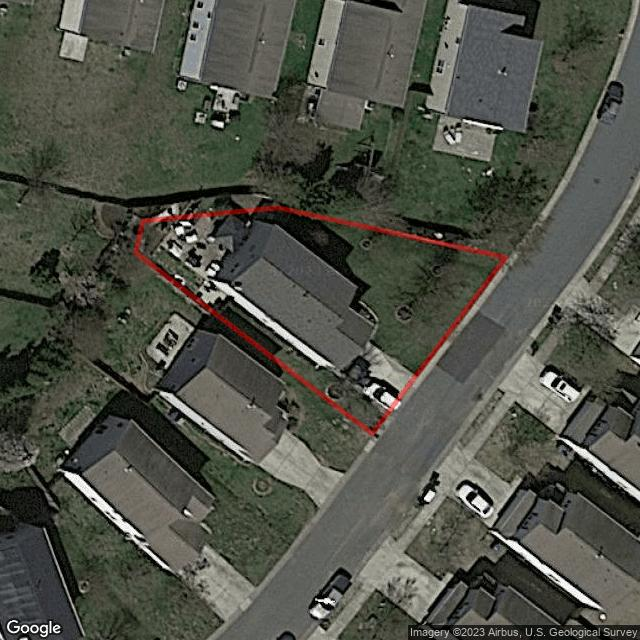Driveway: (336, 345, 412, 409)
Extra Driveway: (391, 379, 422, 417)
Extra Sidewalk: (418, 257, 518, 382), (373, 414, 396, 442)
House: (210, 220, 375, 371)
Other: (158, 216, 248, 280)
